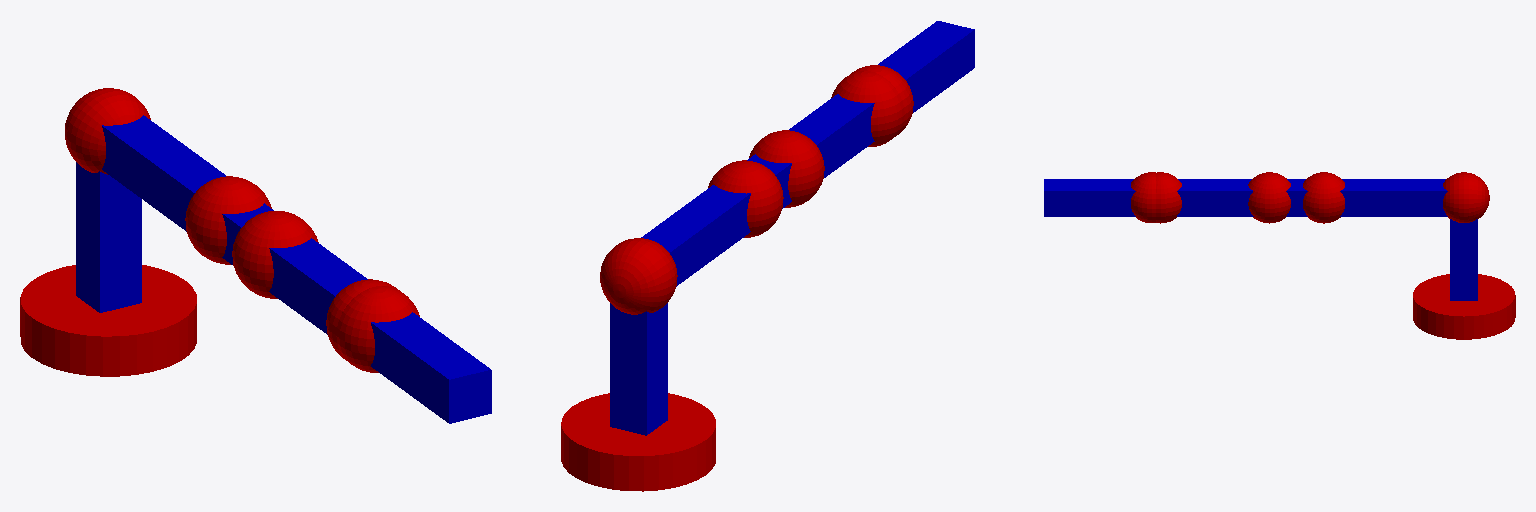
robot.urdf — divar3v4313755553:
<?xml version="1.0"?>
<robot  name="divar3v4313755553" >
 <material  name="blue" >
  <color  rgba="0 0 0.8 1.0" />
 </material>
 <material  name="red" >
  <color  rgba="0.8 0 0 1.0" />
 </material>
 <link  name="base_link" >
  <visual >
   <origin  xyz="0 0 0"  rpy="0 0 0" />
   <material  name="red" />
   <geometry >
    <cylinder  length="0.05"  radius="0.1" />
   </geometry>
  </visual>
 </link>
 <joint  name="joint1"  type="revolute" >
  <parent  link="base_link" />
  <child  link="link1" />
  <origin  xyz="0 0 0"  rpy="0 0 0" />
  <axis  xyz="0 0 1" />
 </joint>
 <link  name="link1" >
  <inertial >
   <origin  xyz="0 0 0.11659190851976246"  rpy="0 0 0" />
   <mass  value="0.740650098871791" />
   <inertia  iyy="0.0003734110915145279"  iyz="0.0"  ixx="0.0035427573289087567"  izz="0.0035427573289087567"  ixz="0.0"  ixy="0.0" />
  </inertial>
  <visual >
   <origin  xyz="0 0 0.11659190851976246"  rpy="0 0 0" />
   <material  name="blue" />
   <geometry >
    <box  size="0.055 0.055 0.23318381703952493" />
   </geometry>
  </visual>
 </link>
 <joint  name="joint-joint-1"  type="fixed" >
  <parent  link="link1" />
  <child  link="joint-link-1" />
  <origin  xyz="0 0 0.23318381703952493"  rpy="1.5707 0 0" />
  <axis  xyz="1 0 0" />
 </joint>
 <link  name="joint-link-1" >
  <inertial >
   <origin  xyz="0 0 0"  rpy="0 0 0" />
   <mass  value="0.832651617494234" />
   <inertia  iyy="0"  iyz="0"  ixx="0"  izz="0"  ixz="0"  ixy="0" />
  </inertial>
  <visual >
   <origin  xyz="0 0 0"  rpy="0 0 0" />
   <material  name="red" />
   <geometry >
    <sphere  radius="0.05" />
   </geometry>
  </visual>
 </link>
 <joint  name="joint2"  type="revolute" >
  <parent  link="link1" />
  <child  link="link2" />
  <origin  xyz="0 0 0.23318381703952493"  rpy="1.5707 0 0" />
  <axis  xyz="1 0 0" />
 </joint>
 <link  name="link2" >
  <inertial >
   <origin  xyz="0 0 0.13633939529569805"  rpy="0 0 0" />
   <mass  value="0.8660960086159218" />
   <inertia  iyy="0.0004366567376771939"  iyz="0.0"  ixx="0.005584783583510348"  izz="0.005584783583510348"  ixz="0.0"  ixy="0.0" />
  </inertial>
  <visual >
   <origin  xyz="0 0 0.13633939529569805"  rpy="0 0 0" />
   <material  name="blue" />
   <geometry >
    <box  size="0.055 0.055 0.2726787905913961" />
   </geometry>
  </visual>
 </link>
 <joint  name="joint-joint-2"  type="fixed" >
  <parent  link="link2" />
  <child  link="joint-link-2" />
  <origin  xyz="0 0 0.2726787905913961"  rpy="1.5707 0 0" />
  <axis  xyz="1 0 0" />
 </joint>
 <link  name="joint-link-2" >
  <inertial >
   <origin  xyz="0 0 0"  rpy="0 0 0" />
   <mass  value="0.832651617494234" />
   <inertia  iyy="0"  iyz="0"  ixx="0"  izz="0"  ixz="0"  ixy="0" />
  </inertial>
  <visual >
   <origin  xyz="0 0 0"  rpy="0 0 0" />
   <material  name="red" />
   <geometry >
    <sphere  radius="0.05" />
   </geometry>
  </visual>
 </link>
 <joint  name="joint3"  type="revolute" >
  <parent  link="link2" />
  <child  link="link3" />
  <origin  xyz="0 0 0.2726787905913961"  rpy="0 0 0" />
  <axis  xyz="0 0 1" />
 </joint>
 <link  name="link3" >
  <inertial >
   <origin  xyz="0 0 0.05288431526371735"  rpy="0 0 0" />
   <mass  value="0.33594761271276447" />
   <inertia  iyy="0.00016937358807601874"  iyz="0.0"  ixx="0.0003978740456776699"  izz="0.0003978740456776699"  ixz="0.0"  ixy="0.0" />
  </inertial>
  <visual >
   <origin  xyz="0 0 0.05288431526371735"  rpy="0 0 0" />
   <material  name="blue" />
   <geometry >
    <box  size="0.055 0.055 0.1057686305274347" />
   </geometry>
  </visual>
 </link>
 <joint  name="joint-joint-3"  type="fixed" >
  <parent  link="link3" />
  <child  link="joint-link-3" />
  <origin  xyz="0 0 0.1057686305274347"  rpy="1.5707 0 0" />
  <axis  xyz="1 0 0" />
 </joint>
 <link  name="joint-link-3" >
  <inertial >
   <origin  xyz="0 0 0"  rpy="0 0 0" />
   <mass  value="0.832651617494234" />
   <inertia  iyy="0"  iyz="0"  ixx="0"  izz="0"  ixz="0"  ixy="0" />
  </inertial>
  <visual >
   <origin  xyz="0 0 0"  rpy="0 0 0" />
   <material  name="red" />
   <geometry >
    <sphere  radius="0.05" />
   </geometry>
  </visual>
 </link>
 <joint  name="joint4"  type="revolute" >
  <parent  link="link3" />
  <child  link="link4" />
  <origin  xyz="0 0 0.1057686305274347"  rpy="0 0 0" />
  <axis  xyz="0 1 0" />
 </joint>
 <link  name="link4" >
  <inertial >
   <origin  xyz="0 0 0.10615170646114565"  rpy="0 0 0" />
   <mass  value="0.6743287152944277" />
   <inertia  iyy="0.0003399740606276073"  iyz="0.0"  ixx="0.002702807220149956"  izz="0.002702807220149956"  ixz="0.0"  ixy="0.0" />
  </inertial>
  <visual >
   <origin  xyz="0 0 0.10615170646114565"  rpy="0 0 0" />
   <material  name="blue" />
   <geometry >
    <box  size="0.055 0.055 0.2123034129222913" />
   </geometry>
  </visual>
 </link>
 <joint  name="joint-joint-4"  type="fixed" >
  <parent  link="link4" />
  <child  link="joint-link-4" />
  <origin  xyz="0 0 0.2123034129222913"  rpy="1.5707 0 0" />
  <axis  xyz="1 0 0" />
 </joint>
 <link  name="joint-link-4" >
  <inertial >
   <origin  xyz="0 0 0"  rpy="0 0 0" />
   <mass  value="0.832651617494234" />
   <inertia  iyy="0"  iyz="0"  ixx="0"  izz="0"  ixz="0"  ixy="0" />
  </inertial>
  <visual >
   <origin  xyz="0 0 0"  rpy="0 0 0" />
   <material  name="red" />
   <geometry >
    <sphere  radius="0.05" />
   </geometry>
  </visual>
 </link>
 <joint  name="joint5"  type="revolute" >
  <parent  link="link4" />
  <child  link="link5" />
  <origin  xyz="0 0 0.2123034129222913"  rpy="0 0 0" />
  <axis  xyz="0 0 1" />
 </joint>
 <link  name="link5" >
  <inertial >
   <origin  xyz="0 0 0.008376167094929521"  rpy="0 0 0" />
   <mass  value="0.05320960147053978" />
   <inertia  iyy="2.6826507408063805e-05"  iyz="0.0"  ixx="1.4657652024568984e-05"  izz="1.4657652024568984e-05"  ixz="0.0"  ixy="0.0" />
  </inertial>
  <visual >
   <origin  xyz="0 0 0.008376167094929521"  rpy="0 0 0" />
   <material  name="blue" />
   <geometry >
    <box  size="0.055 0.055 0.016752334189859042" />
   </geometry>
  </visual>
 </link>
 <joint  name="joint-joint-5"  type="fixed" >
  <parent  link="link5" />
  <child  link="joint-link-5" />
  <origin  xyz="0 0 0.016752334189859042"  rpy="1.5707 0 0" />
  <axis  xyz="1 0 0" />
 </joint>
 <link  name="joint-link-5" >
  <inertial >
   <origin  xyz="0 0 0"  rpy="0 0 0" />
   <mass  value="0.832651617494234" />
   <inertia  iyy="0"  iyz="0"  ixx="0"  izz="0"  ixz="0"  ixy="0" />
  </inertial>
  <visual >
   <origin  xyz="0 0 0"  rpy="0 0 0" />
   <material  name="red" />
   <geometry >
    <sphere  radius="0.05" />
   </geometry>
  </visual>
 </link>
 <joint  name="joint6"  type="revolute" >
  <parent  link="link5" />
  <child  link="link6" />
  <origin  xyz="0 0 0.016752334189859042"  rpy="0 0 0" />
  <axis  xyz="0 1 0" />
 </joint>
 <link  name="link6" >
  <inertial >
   <origin  xyz="0 0 0.0005"  rpy="0 0 0" />
   <mass  value="0.0031762500000000003" />
   <inertia  iyy="1.601359375e-06"  iyz="0.0"  ixx="8.009443750000001e-07"  izz="8.009443750000001e-07"  ixz="0.0"  ixy="0.0" />
  </inertial>
  <visual >
   <origin  xyz="0 0 0.0005"  rpy="0 0 0" />
   <material  name="blue" />
   <geometry >
    <box  size="0.055 0.055 0.001" />
   </geometry>
  </visual>
 </link>
 <joint  name="joint7"  type="revolute" >
  <parent  link="link6" />
  <child  link="link7" />
  <origin  xyz="0 0 0.001"  rpy="0 0 0" />
  <axis  xyz="1 0 0" />
 </joint>
 <link  name="link7" >
  <inertial >
   <origin  xyz="0 0 0.10410661697964341"  rpy="0 0 0" />
   <mass  value="0.6613372843631847" />
   <inertia  iyy="0.00033342421419977226"  iyz="0.0"  ixx="0.002555944647179732"  izz="0.002555944647179732"  ixz="0.0"  ixy="0.0" />
  </inertial>
  <visual >
   <origin  xyz="0 0 0.10410661697964341"  rpy="0 0 0" />
   <material  name="blue" />
   <geometry >
    <box  size="0.055 0.055 0.20821323395928681" />
   </geometry>
  </visual>
 </link>
 <joint  name="eef_joint"  type="fixed" >
  <parent  link="link7" />
  <child  link="eef" />
  <origin  xyz="0 0 0.20821323395928681"  rpy="0 0 0" />
 </joint>
 <link  name="eef" />
 <transmission  name="motor1" >
  <type  xmltext="SimpleTransmission" >
   SimpleTransmission
  </type>
  <actuator  name="motor1" >
   <mechanicalreduction  xmltext="1" >
    1
   </mechanicalreduction>
  </actuator>
  <joint  name="joint1" />
 </transmission>
 <transmission  name="motor2" >
  <type  xmltext="SimpleTransmission" >
   SimpleTransmission
  </type>
  <actuator  name="motor2" >
   <mechanicalreduction  xmltext="1" >
    1
   </mechanicalreduction>
  </actuator>
  <joint  name="joint2" />
 </transmission>
 <transmission  name="motor3" >
  <type  xmltext="SimpleTransmission" >
   SimpleTransmission
  </type>
  <actuator  name="motor3" >
   <mechanicalreduction  xmltext="1" >
    1
   </mechanicalreduction>
  </actuator>
  <joint  name="joint3" />
 </transmission>
 <transmission  name="motor4" >
  <type  xmltext="SimpleTransmission" >
   SimpleTransmission
  </type>
  <actuator  name="motor4" >
   <mechanicalreduction  xmltext="1" >
    1
   </mechanicalreduction>
  </actuator>
  <joint  name="joint4" />
 </transmission>
 <transmission  name="motor5" >
  <type  xmltext="SimpleTransmission" >
   SimpleTransmission
  </type>
  <actuator  name="motor5" >
   <mechanicalreduction  xmltext="1" >
    1
   </mechanicalreduction>
  </actuator>
  <joint  name="joint5" />
 </transmission>
 <transmission  name="motor6" >
  <type  xmltext="SimpleTransmission" >
   SimpleTransmission
  </type>
  <actuator  name="motor6" >
   <mechanicalreduction  xmltext="1" >
    1
   </mechanicalreduction>
  </actuator>
  <joint  name="joint6" />
 </transmission>
 <transmission  name="motor7" >
  <type  xmltext="SimpleTransmission" >
   SimpleTransmission
  </type>
  <actuator  name="motor7" >
   <mechanicalreduction  xmltext="1" >
    1
   </mechanicalreduction>
  </actuator>
  <joint  name="joint7" />
 </transmission>
</robot>

<!-- [ 0.23318382  0.37844742  0.72051962  0.22905575  0.92686351 12.72183842
 38.7037902   0.83265162 31.7142604  82.66832429 10.45763093  0.20821323]-->

--- What the picture shows (computed from the rendered views, not written in the file) ---
The picture shows the robot from 3 angles, left to right: view 1: azimuth 30°, elevation 25°; view 2: azimuth 150°, elevation 25°; view 3: azimuth 270°, elevation 25°; orthographic projection.
Model divar3v4313755553 with 14 links and 13 joints (7 revolute, 6 fixed), rooted at base_link, posed every joint at zero.
Visible links, largest first — view 1: base_link, link1, link7, link2, link4, joint-link-2, joint-link-3, joint-link-1, joint-link-5, joint-link-4, link3; view 2: base_link, link1, link2, link7, joint-link-1, link4, joint-link-3, joint-link-2, joint-link-4, joint-link-5, link3; view 3: base_link, link2, link7, link4, link1, joint-link-1, joint-link-2, joint-link-3, joint-link-4, joint-link-5, link3.
Boxes of the visible links, box(x1,y1,x2,y2) form: base_link: box(20, 265, 196, 376); link1: box(76, 162, 141, 312); link7: box(371, 312, 491, 423); link2: box(102, 115, 225, 231); link4: box(269, 238, 367, 334); joint-link-2: box(185, 176, 271, 264); joint-link-3: box(232, 211, 318, 298); joint-link-1: box(65, 88, 150, 174); joint-link-5: box(336, 286, 419, 372); joint-link-4: box(326, 279, 399, 360); link3: box(222, 203, 273, 264); base_link: box(561, 393, 715, 491); link1: box(610, 303, 667, 435); link2: box(641, 185, 750, 286); link7: box(878, 21, 974, 112); joint-link-1: box(600, 238, 677, 314); link4: box(789, 94, 874, 177); joint-link-3: box(749, 130, 824, 207); joint-link-2: box(708, 160, 783, 237); joint-link-4: box(831, 71, 904, 146); joint-link-5: box(851, 65, 913, 136); link3: box(747, 154, 791, 208); base_link: box(1413, 274, 1515, 339); link2: box(1340, 179, 1447, 216); link7: box(1044, 179, 1135, 216); link4: box(1177, 179, 1253, 216); link1: box(1450, 219, 1477, 300); joint-link-1: box(1443, 172, 1489, 222); joint-link-2: box(1303, 172, 1344, 223); joint-link-3: box(1248, 172, 1290, 223); joint-link-4: box(1156, 172, 1181, 223); joint-link-5: box(1131, 172, 1155, 222); link3: box(1286, 179, 1307, 216).
Bounding box of the posed robot: 0.2 × 0.9167 × 0.3082 m (x, y, z).
Geometry: primitives only (box / cylinder / sphere), no mesh files.
